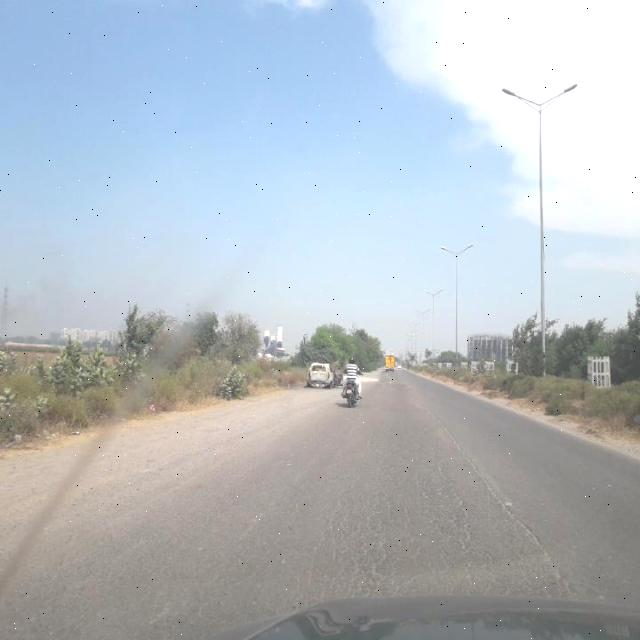D00: (416, 402, 558, 580)
D20: (189, 466, 552, 597)
